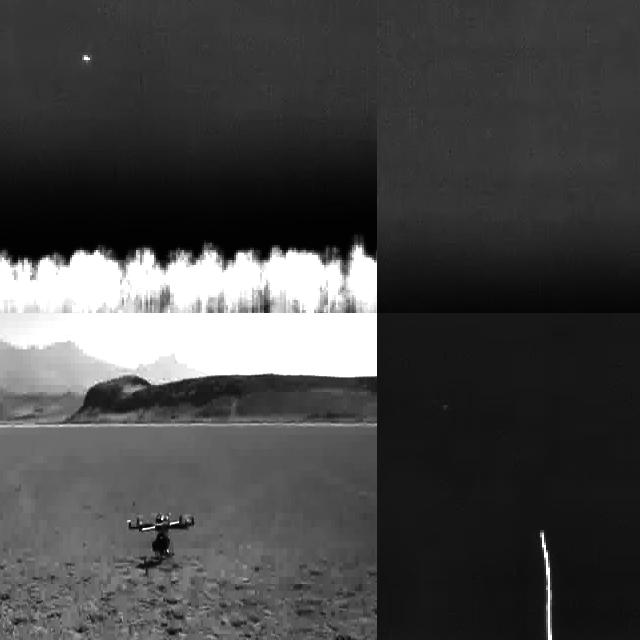0: (436, 395, 456, 423)
1: (75, 45, 107, 80)
drone: (126, 504, 195, 553)
